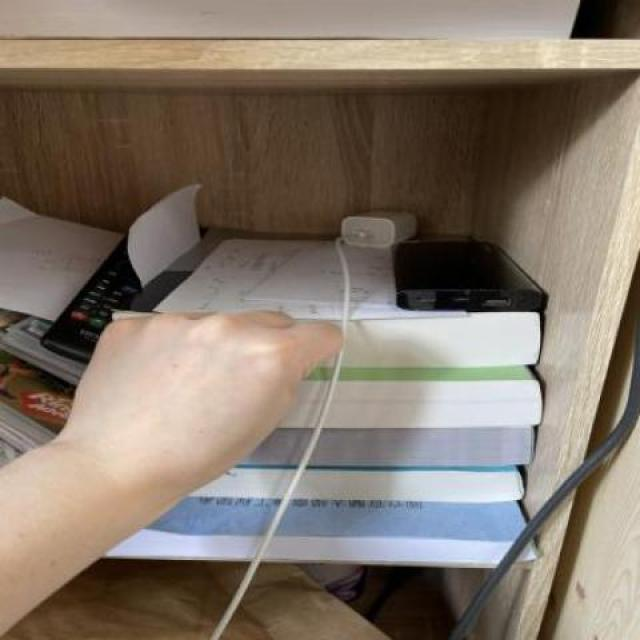Closed Hand: (71, 300, 345, 536)
